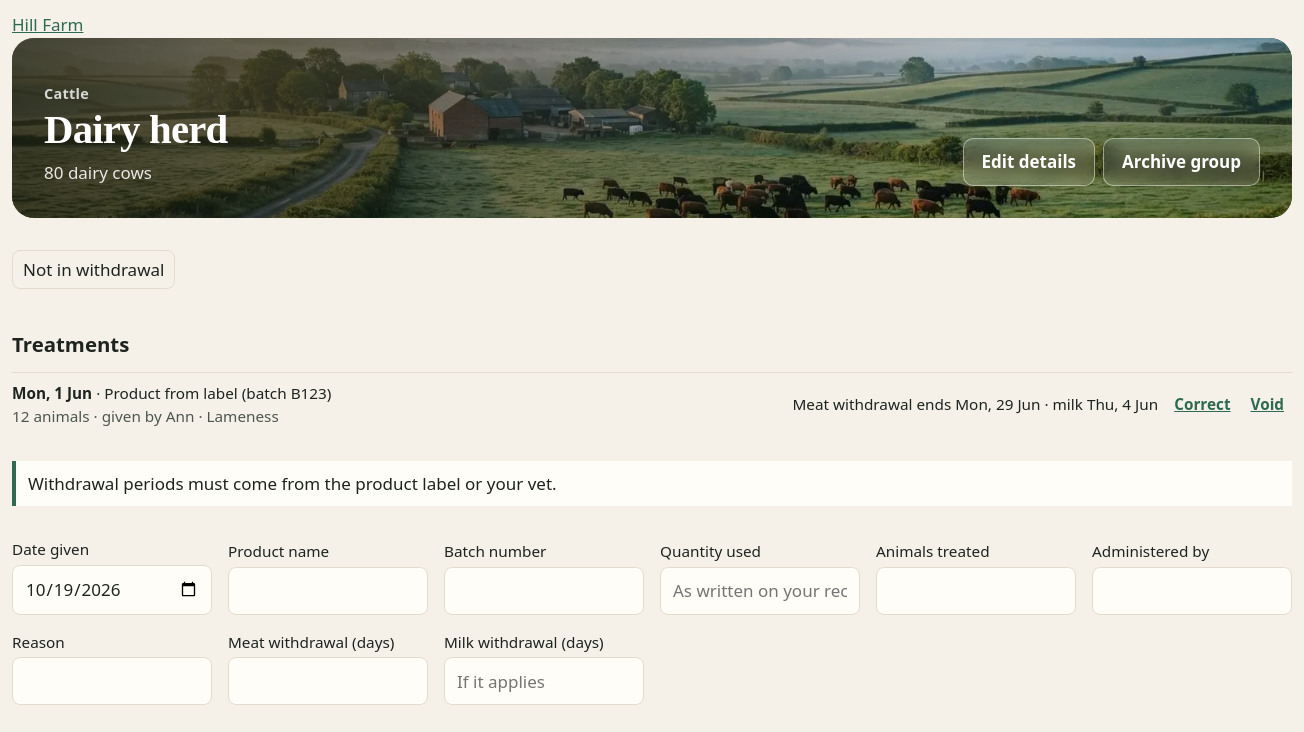
Test case: GroupPage › corrections and voids (FR-6.5) › opens a correction form filled in from the record
The width and height of the screenshot is (1304, 732).
Click the button "Correct": (1202, 405) [1166,381,1238,429]
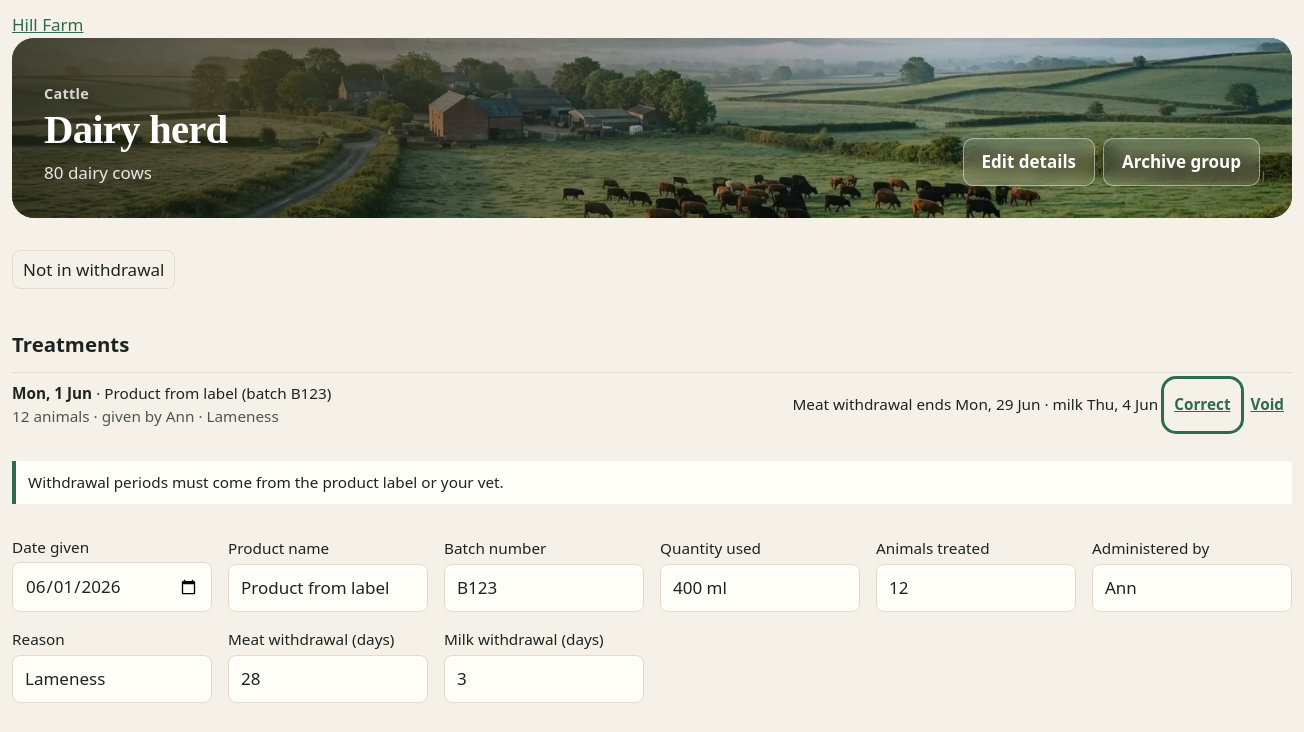
Expected: the field labelled "Batch number" holds "B123", [444,564,644,612]
